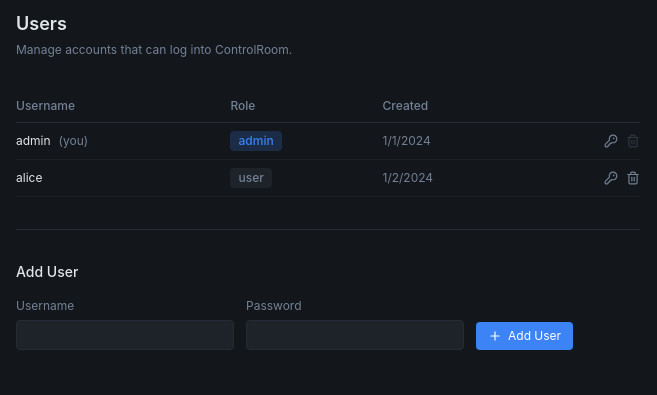
Test: UsersPage › shows error when role toggle fails
This screenshot has width=657, height=395.
Expected: the text "alice" is shown, [16, 160, 230, 196]
Click the button titled "switch to admin": (251, 178) [230, 168, 272, 188]
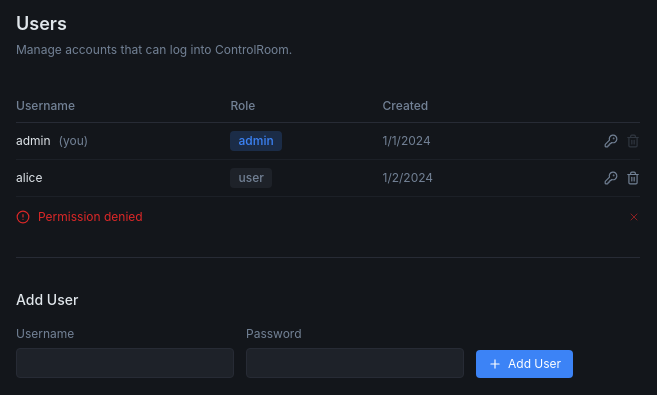
Expected: the text "Permission denied" is shown, [38, 209, 143, 224]
